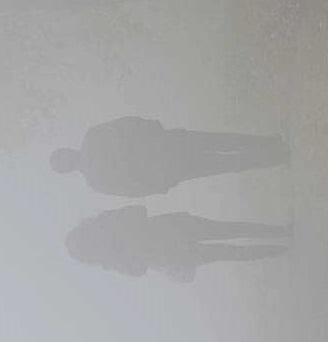person: (49, 115, 291, 198), (65, 205, 294, 280)
